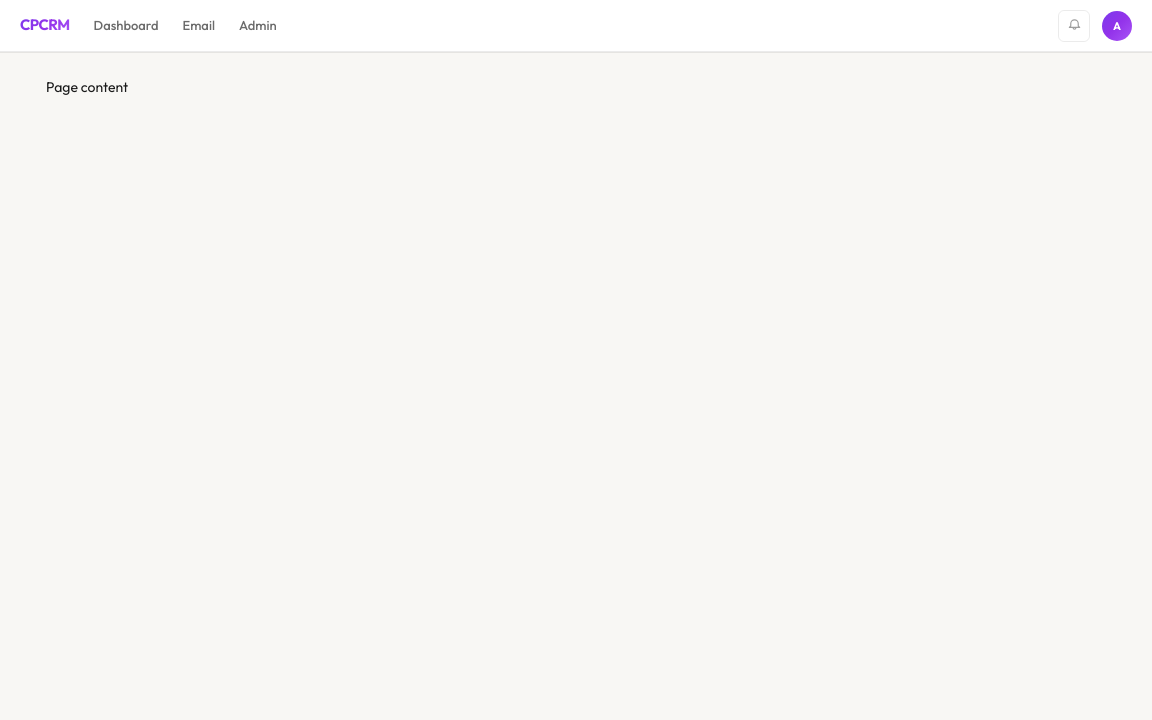
Test: AppShell › shows the authenticated user name in the profile dropdown
This screenshot has width=1152, height=720.
Open the profile dropdown
Click the button named "User menu for Alice": point(1117, 26) [1102,10,1132,40]
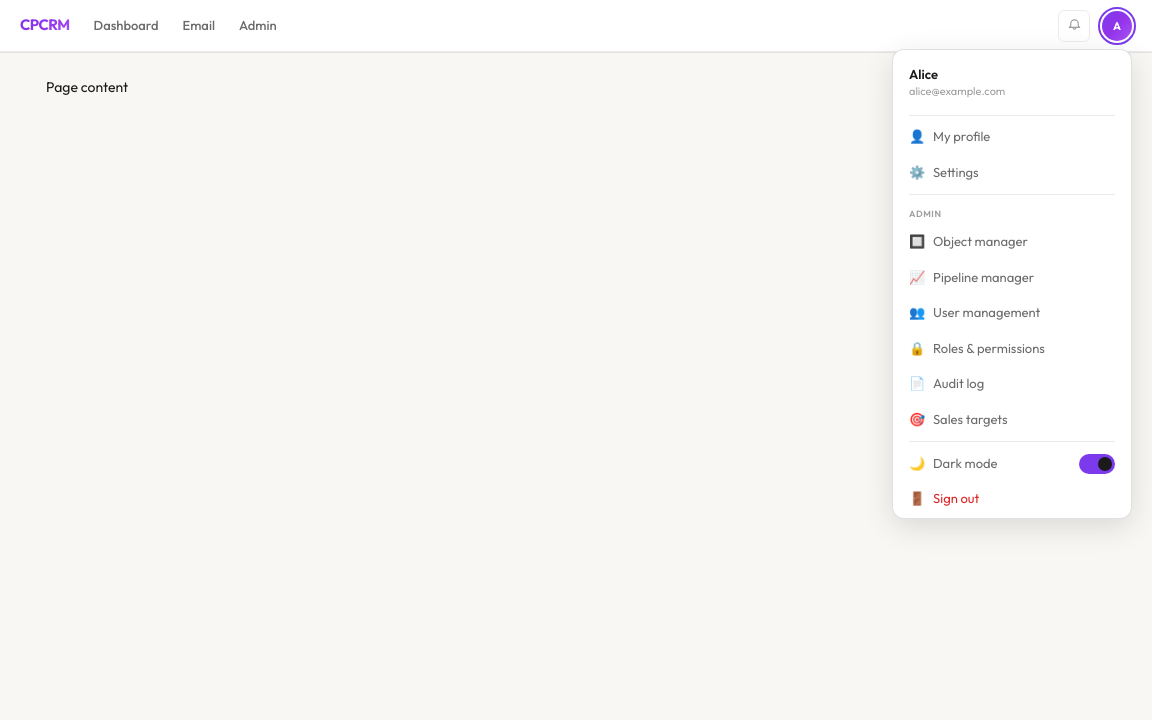
Check: the text "Alice" is shown, box [909,66,938,82]
